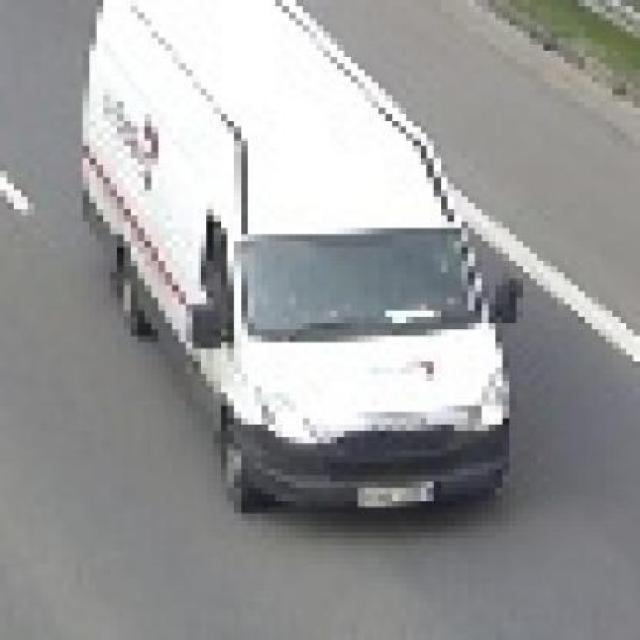vehicle: (78, 3, 536, 539)
